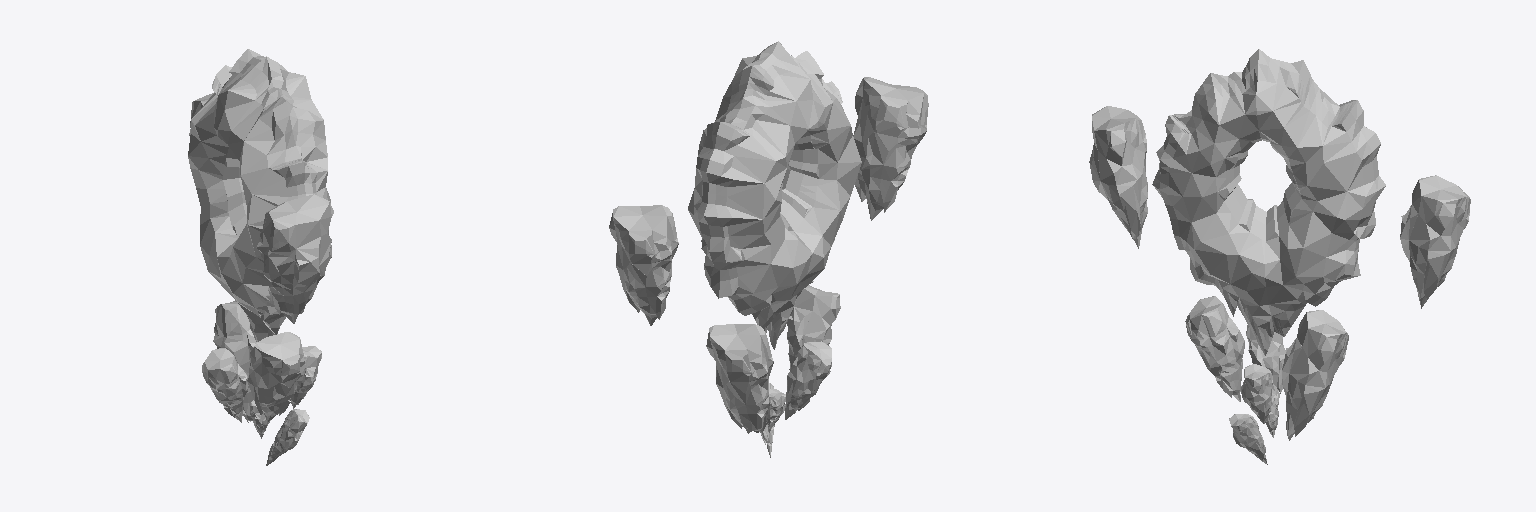
The model's file is EARTH ENEMY.obj.
3 views of the same model, side by side, from view 1: azimuth 30°, elevation 25°; view 2: azimuth 150°, elevation 25°; view 3: azimuth 270°, elevation 25° (orthographic).
Visible parts, largest first — view 1: Plane, Cylinder.006, Cylinder.003, Cylinder, Cylinder.002, Cylinder.001, Cylinder.005; view 2: Plane, Cylinder.006, Cylinder.007, Cylinder, Cylinder.003, Cylinder.002, Cylinder.004; view 3: Plane, Cylinder.007, Cylinder.006, Cylinder, Cylinder.003, Cylinder.005, Cylinder.002, Cylinder.001.
Part boxes in pixels (bbox=[...]): Plane: bbox=[188, 49, 331, 341]; Cylinder.006: bbox=[256, 194, 333, 323]; Cylinder.003: bbox=[247, 332, 306, 422]; Cylinder: bbox=[213, 301, 270, 425]; Cylinder.002: bbox=[202, 348, 248, 422]; Cylinder.001: bbox=[266, 409, 309, 465]; Cylinder.005: bbox=[289, 346, 321, 408]; Plane: bbox=[688, 41, 861, 349]; Cylinder.006: bbox=[853, 77, 928, 220]; Cylinder.007: bbox=[609, 205, 678, 325]; Cylinder: bbox=[706, 324, 773, 433]; Cylinder.003: bbox=[787, 285, 840, 369]; Cylinder.002: bbox=[785, 341, 831, 419]; Cylinder.004: bbox=[766, 389, 785, 432]; Plane: bbox=[1152, 49, 1385, 355]; Cylinder.007: bbox=[1400, 175, 1470, 308]; Cylinder.006: bbox=[1089, 106, 1147, 248]; Cylinder: bbox=[1282, 310, 1348, 440]; Cylinder.003: bbox=[1185, 296, 1244, 401]; Cylinder.005: bbox=[1241, 364, 1272, 423]; Cylinder.002: bbox=[1246, 325, 1285, 399]; Cylinder.001: bbox=[1229, 414, 1267, 464].
Size of the model in its own units: 2.94 by 7.61 by 6.34.